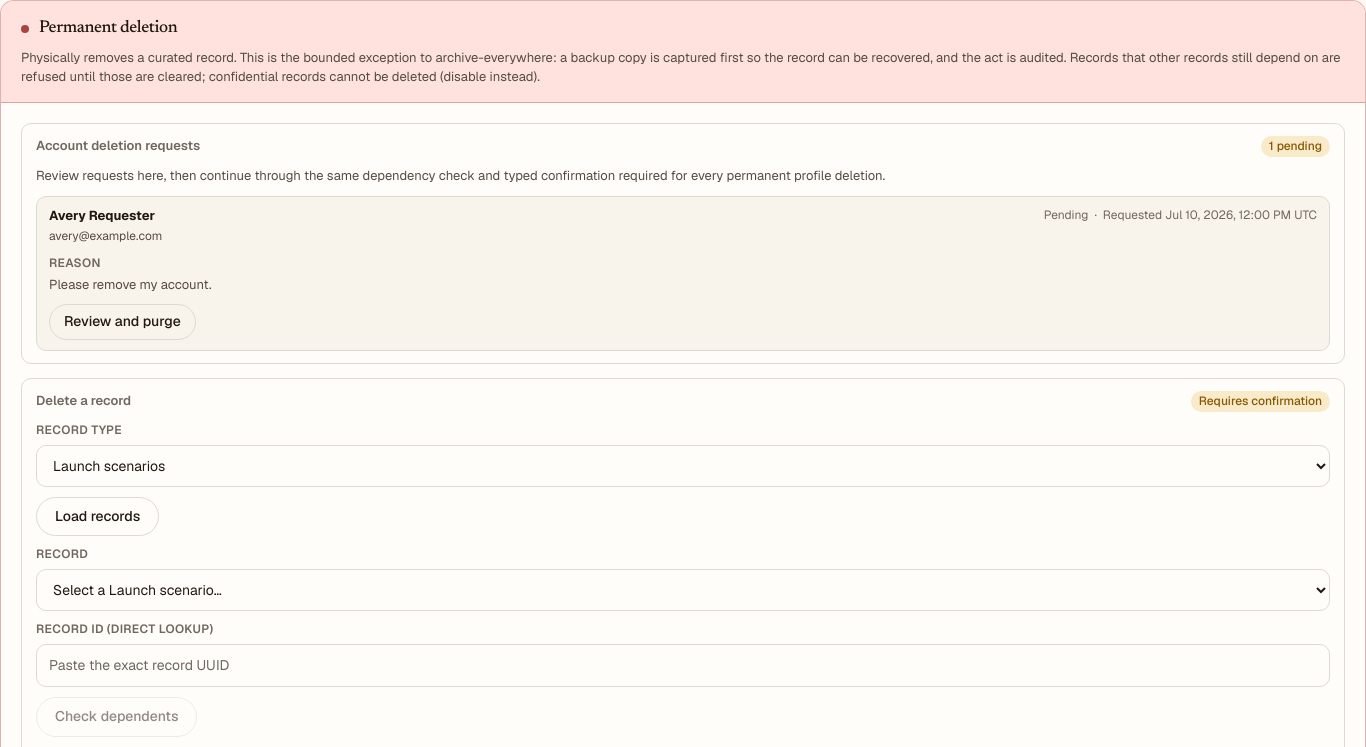
PermanentDeleteCard account deletion request queue › renders requester details and preloads the existing profile purge flow
Expected: the text "Avery Requester" is shown, left=49, top=207, right=162, bottom=226
Expected: the text "avery@example.com" is shown, left=49, top=228, right=162, bottom=245
Click the button with aria-label "Review and purge Avery Requester" at (122, 322), box left=49, top=304, right=196, bottom=340
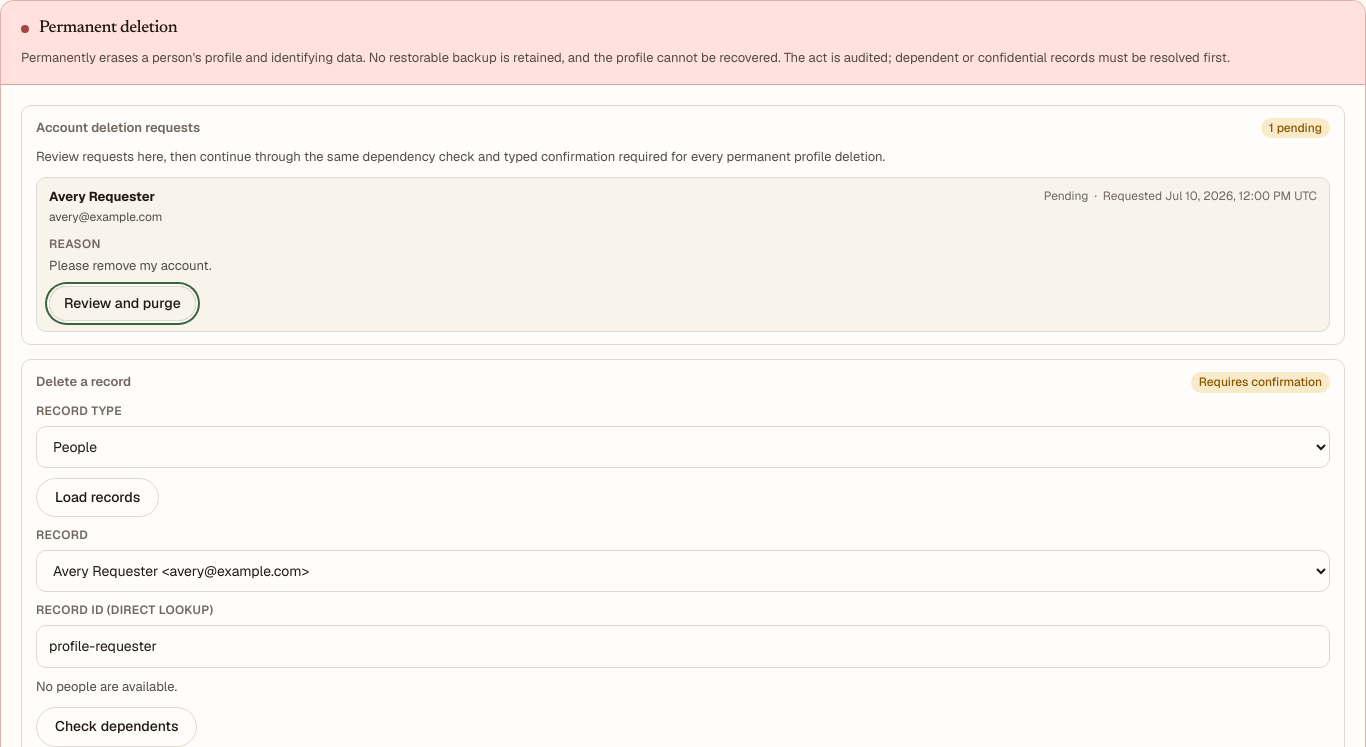
Expected: the dropdown labelled "Record type" shows "People", left=36, top=426, right=1330, bottom=468
Expected: the dropdown labelled "Record" shows "Avery Requester <avery@example.com>", left=36, top=550, right=1330, bottom=592
